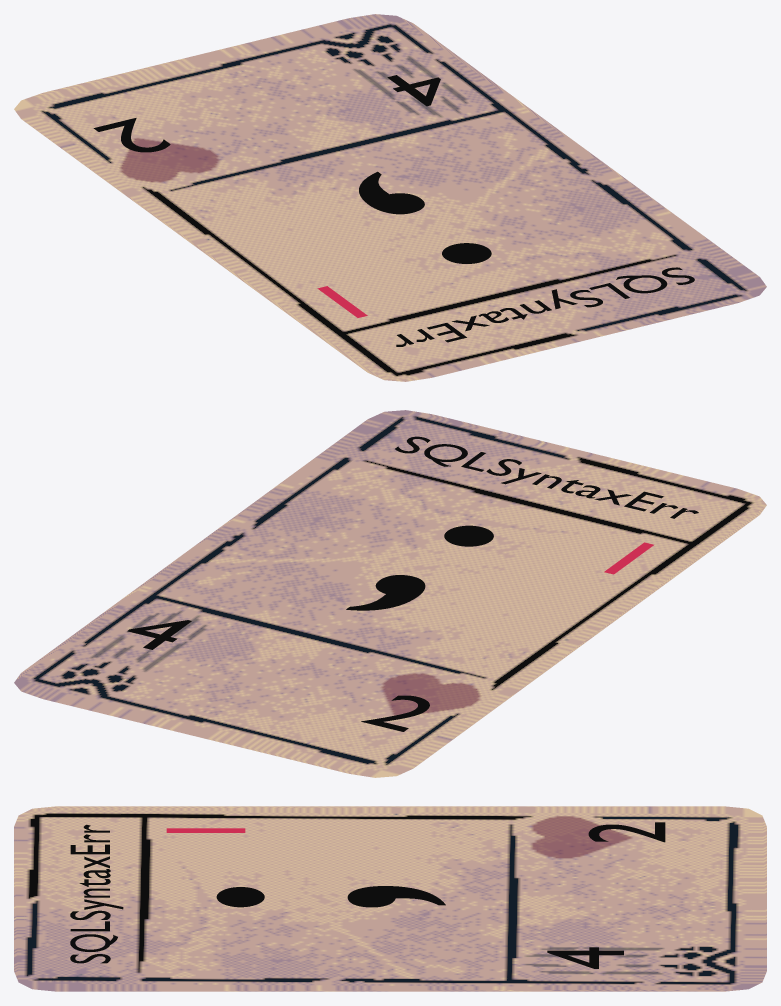
Rendered from SQLSyntaxErr.glb.
The picture shows the model from 3 angles, top to bottom: view 1: azimuth 30°, elevation 25°; view 2: azimuth 150°, elevation 25°; view 3: azimuth 270°, elevation 25°; orthographic projection. The views are drawn at different scales.
Parts seen in each view (by area): view 1: SqlSyntaxErr; view 2: SqlSyntaxErr; view 3: SqlSyntaxErr.
Part boxes in pixels (x1=…): SqlSyntaxErr: x1=14, y1=14, x2=766, y2=381; SqlSyntaxErr: x1=14, y1=410, x2=766, y2=777; SqlSyntaxErr: x1=14, y1=806, x2=766, y2=991.
Size of what is drawn, in the model's own units: 44.93 by 0.4028 by 77.22.
5 materials, 1 textured.
